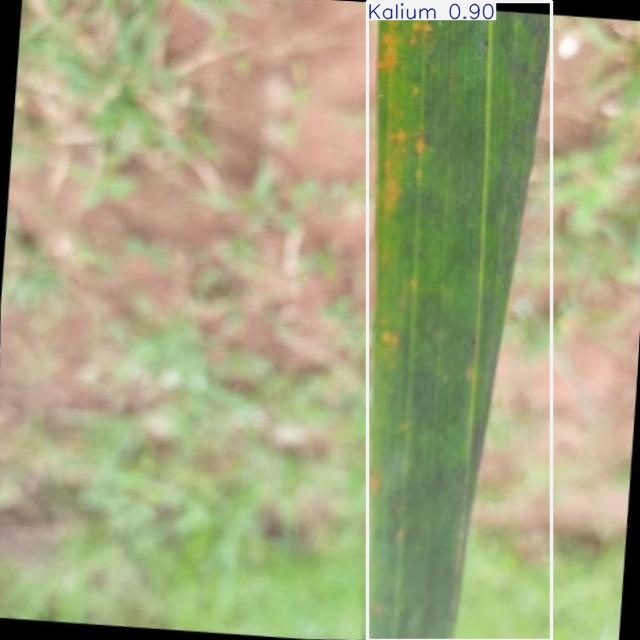Kalium: (367, 1, 552, 640)
